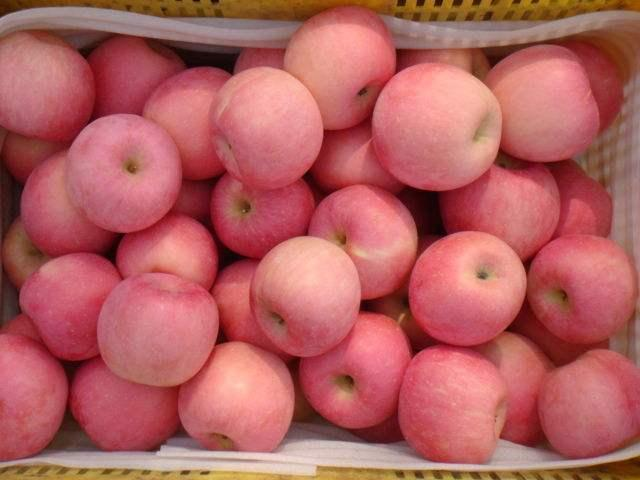apple: (369, 58, 501, 194), (483, 43, 605, 164), (295, 309, 412, 435), (64, 109, 184, 231), (244, 234, 361, 359), (518, 233, 637, 352), (209, 56, 324, 178), (282, 6, 395, 130), (406, 233, 524, 350), (397, 344, 509, 466), (97, 271, 220, 382), (174, 341, 294, 453), (307, 185, 417, 299), (437, 161, 559, 256), (19, 253, 120, 363), (67, 356, 182, 452), (539, 350, 639, 456), (144, 65, 234, 182), (1, 28, 93, 139), (21, 153, 116, 254), (208, 172, 316, 252), (1, 334, 67, 463), (115, 214, 220, 292), (393, 45, 490, 80)
